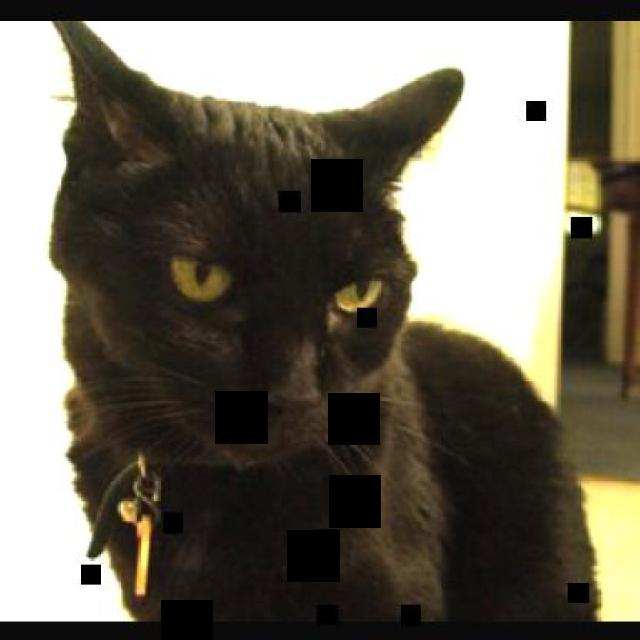unauthorized: (46, 19, 602, 623)
